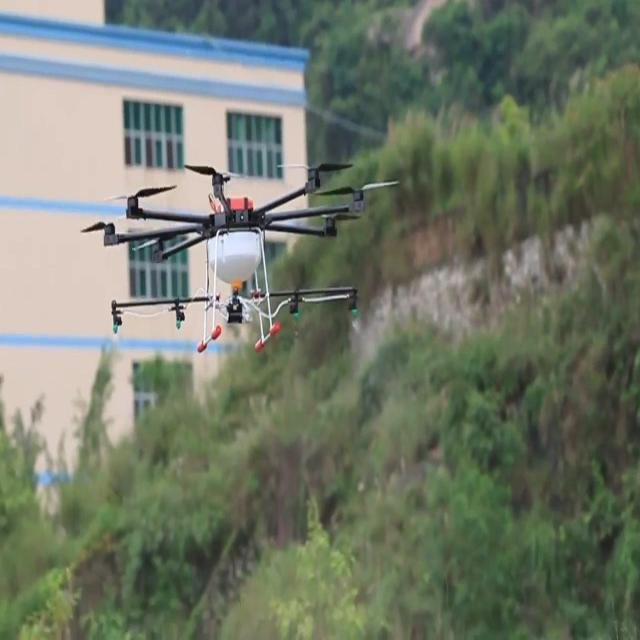drone: (75, 154, 399, 359)
